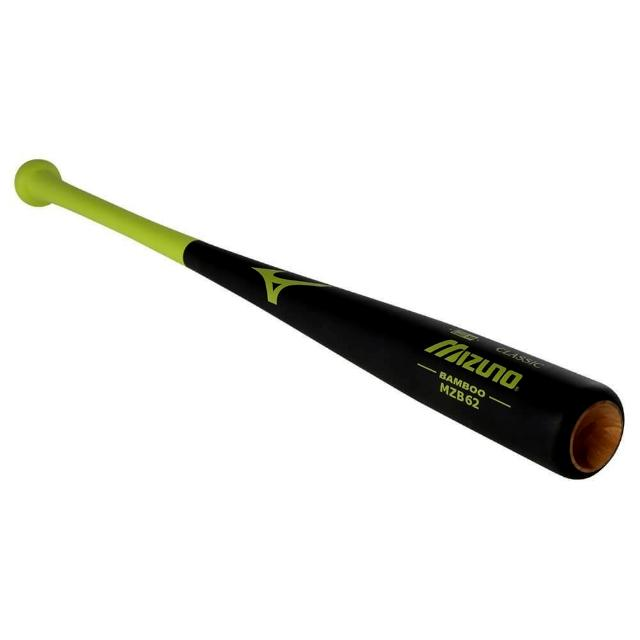baseball bat: (10, 118, 640, 506)
